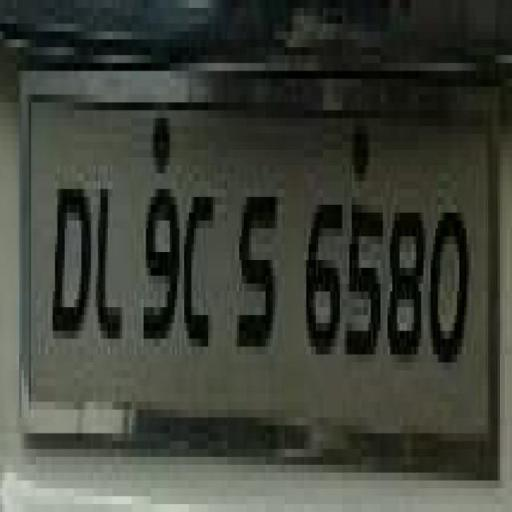number plate: (19, 79, 512, 457)
